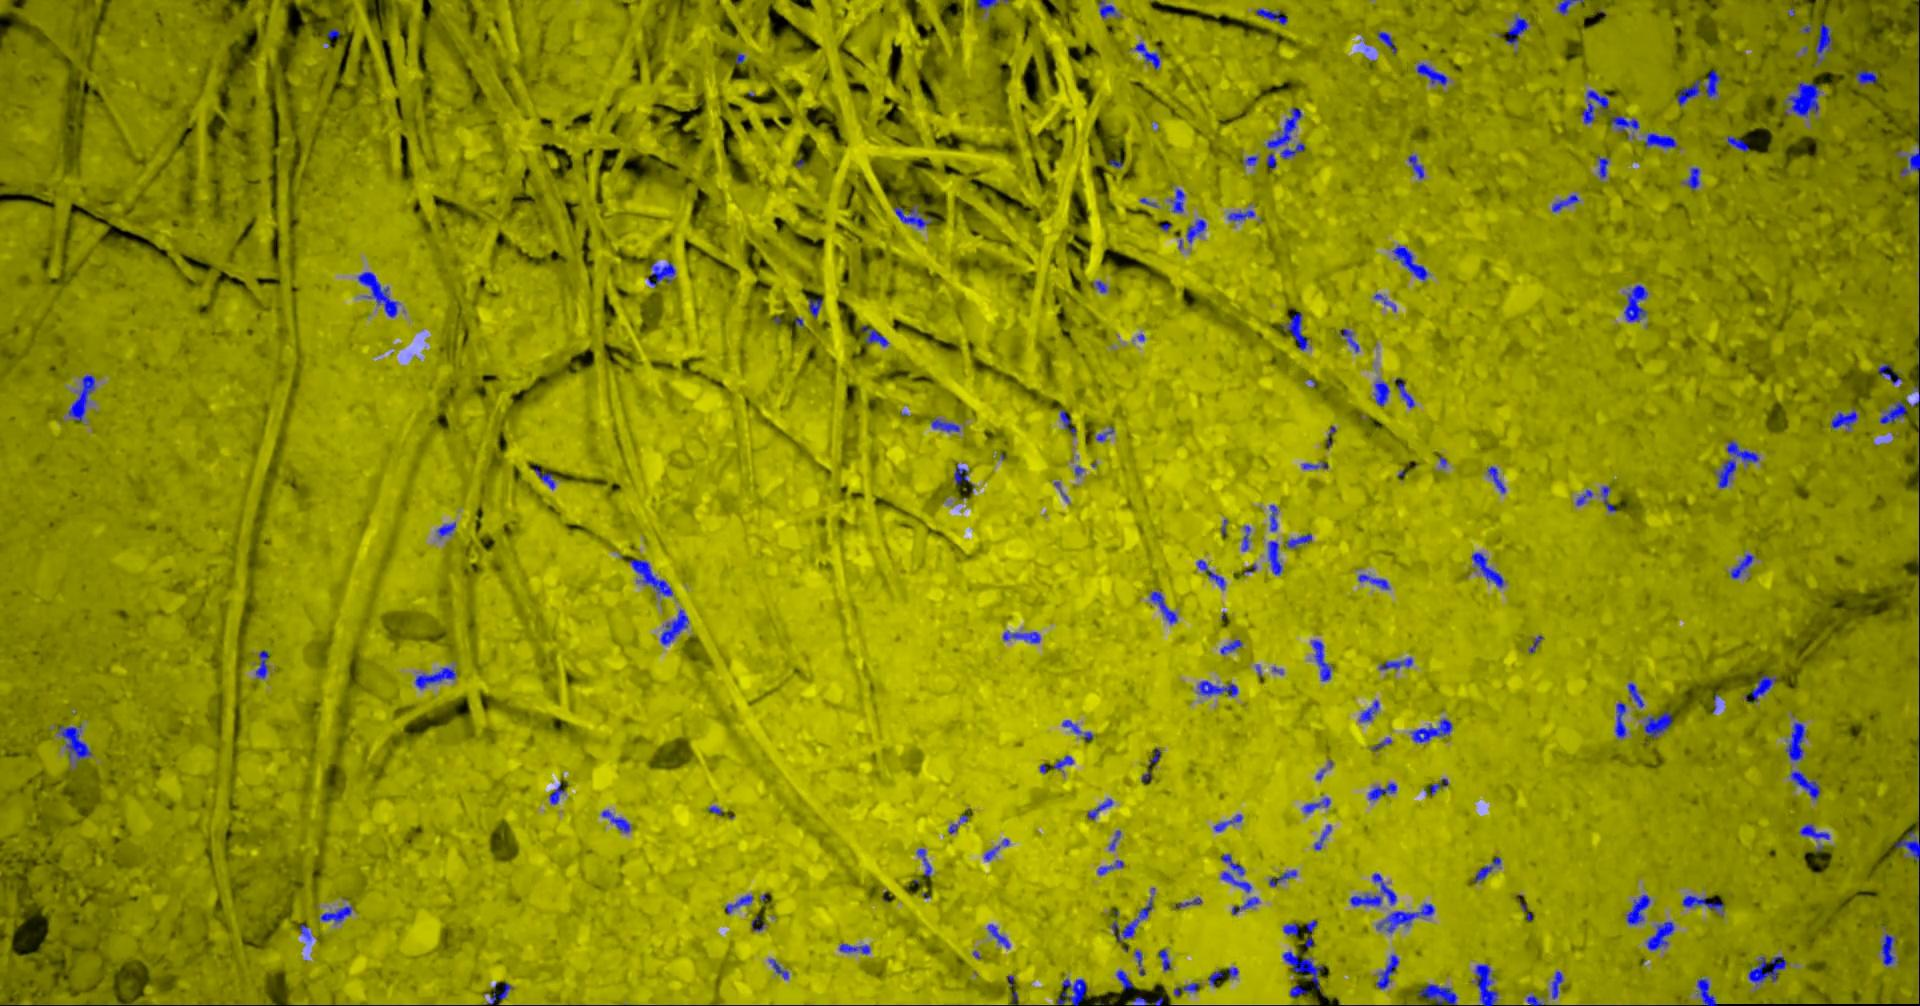ant: (1266, 107, 1304, 168), (1716, 439, 1759, 486), (357, 271, 397, 318), (1111, 895, 1152, 942), (1375, 903, 1434, 932), (1676, 69, 1721, 105), (629, 558, 672, 594), (1349, 873, 1396, 906), (1283, 951, 1323, 989), (1879, 385, 1919, 423), (57, 725, 91, 765), (1783, 81, 1820, 117), (1390, 244, 1427, 279), (1898, 114, 1919, 174), (69, 373, 94, 420), (1470, 551, 1503, 587), (1220, 854, 1251, 892), (659, 608, 688, 644), (1749, 956, 1785, 984), (1280, 312, 1307, 351), (1411, 718, 1451, 742), (1581, 89, 1608, 124), (1474, 964, 1497, 1005), (893, 203, 931, 227), (1789, 770, 1820, 799), (1623, 285, 1647, 321), (1149, 591, 1177, 622), (414, 667, 455, 688), (1196, 559, 1224, 589), (1417, 983, 1457, 1005), (1646, 921, 1674, 950), (1375, 954, 1398, 989), (1310, 639, 1330, 681), (1681, 895, 1723, 915), (1057, 978, 1086, 1005), (1785, 721, 1804, 761), (1643, 710, 1671, 737), (1895, 831, 1919, 861), (1505, 13, 1528, 44), (1416, 62, 1448, 85), (1473, 856, 1501, 882), (1625, 894, 1650, 923), (1134, 42, 1159, 69), (1750, 674, 1775, 701), (648, 262, 676, 286), (1197, 680, 1237, 696), (1830, 406, 1857, 431), (601, 810, 630, 832), (1815, 23, 1831, 61), (1142, 748, 1161, 781), (1062, 719, 1092, 739), (1394, 377, 1415, 406), (1086, 798, 1112, 819), (1730, 554, 1752, 578), (987, 923, 1010, 948), (488, 982, 512, 1005), (1255, 8, 1288, 24), (1643, 132, 1676, 149), (1267, 540, 1283, 575), (1697, 978, 1717, 1005), (860, 326, 888, 345), (1230, 895, 1258, 915), (1357, 573, 1389, 589), (1877, 363, 1902, 384), (533, 464, 554, 489), (725, 894, 752, 913), (320, 906, 350, 922), (1550, 194, 1578, 212), (1269, 869, 1297, 887), (1879, 934, 1895, 965), (1799, 823, 1829, 840), (1487, 466, 1505, 493), (1002, 630, 1039, 643), (1368, 782, 1396, 799), (1213, 814, 1241, 831), (1186, 218, 1205, 243), (1338, 328, 1357, 352), (1610, 116, 1639, 131), (1303, 796, 1330, 813), (1357, 700, 1378, 721), (1377, 30, 1396, 53), (1378, 657, 1412, 669), (549, 781, 568, 804), (916, 848, 931, 876), (1614, 701, 1625, 738), (1373, 380, 1389, 405), (1059, 409, 1076, 434), (1627, 682, 1643, 708), (768, 958, 789, 978), (1726, 135, 1749, 152), (1373, 293, 1396, 311), (1423, 779, 1448, 795), (1314, 824, 1331, 848), (1097, 859, 1123, 874), (1407, 155, 1423, 178), (1557, 0, 1583, 14), (255, 649, 268, 678), (1098, 0, 1119, 18), (1285, 533, 1310, 547), (1550, 970, 1563, 998), (1685, 166, 1699, 191), (1170, 188, 1183, 212), (1601, 486, 1615, 511), (1173, 982, 1197, 996), (952, 464, 968, 485), (931, 419, 959, 431), (1220, 639, 1241, 654), (1116, 969, 1131, 989), (1855, 70, 1877, 84), (1051, 754, 1073, 768), (839, 942, 869, 953), (1575, 489, 1592, 506), (436, 522, 455, 537), (1227, 210, 1255, 220), (808, 297, 822, 318), (975, 0, 1007, 9), (1131, 996, 1163, 1005), (1371, 735, 1390, 749), (1596, 155, 1608, 178), (1158, 948, 1170, 970), (1176, 897, 1201, 907), (1269, 504, 1277, 531), (1241, 525, 1250, 551), (1134, 950, 1143, 976), (1289, 984, 1305, 997), (1208, 970, 1222, 984), (1091, 279, 1106, 292), (1283, 922, 1298, 935), (1526, 995, 1545, 1005), (1302, 461, 1327, 467)
